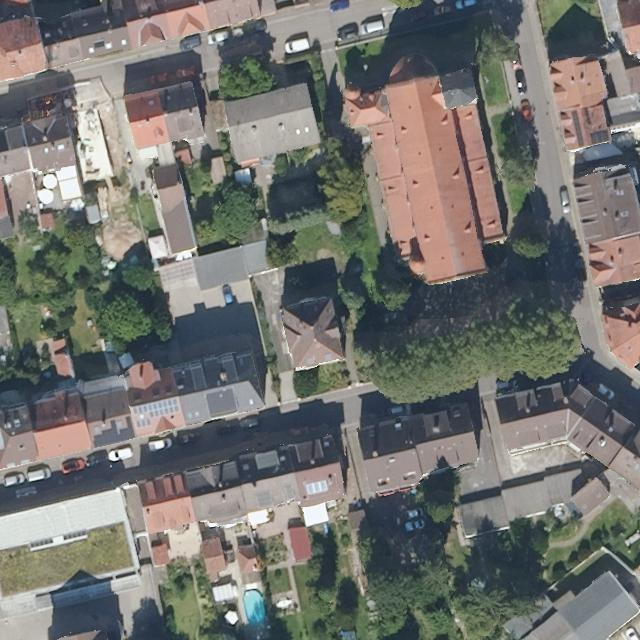PV: (127, 394, 184, 429), (571, 108, 586, 150)
